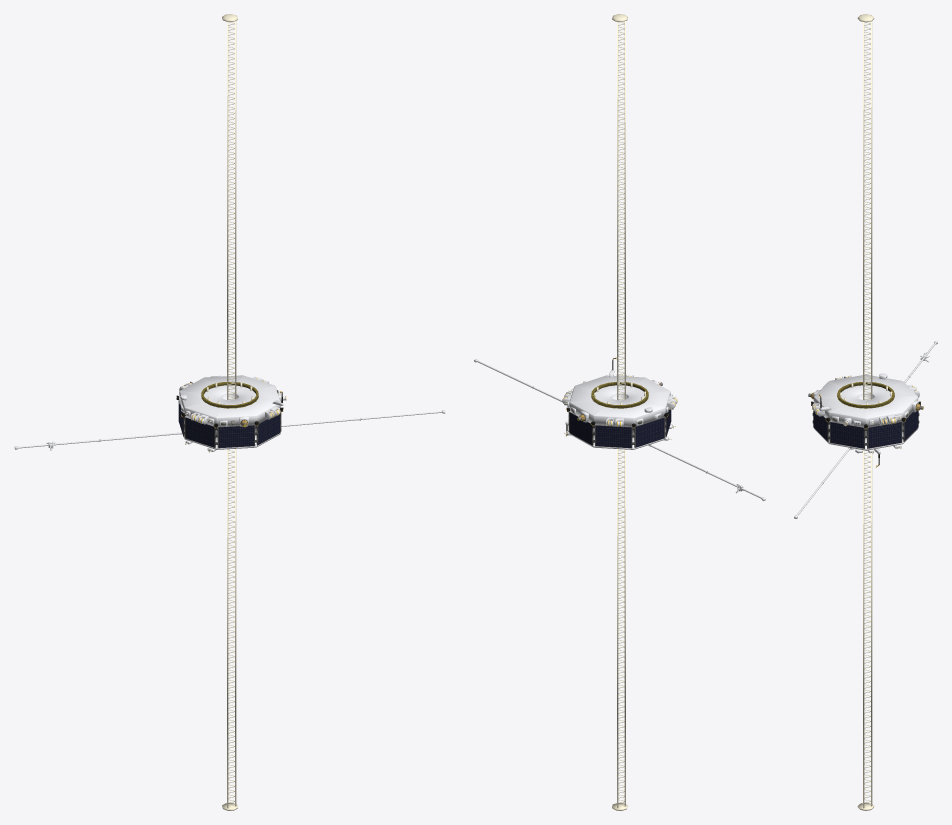
File: MMS.glb
3 views of the same model, side by side, from view 1: azimuth 30°, elevation 25°; view 2: azimuth 150°, elevation 25°; view 3: azimuth 270°, elevation 25° (orthographic).
Parts seen in each view (by area): view 1: BUS, ADP_top, ADP_bottom, Solar_array; view 2: BUS, ADP_top, ADP_bottom, Solar_array; view 3: BUS, ADP_top, ADP_bottom, Solar_array, Thrust_tube_gold.
Part boxes in pixels (x1,y1,x2,y2): BUS: [179, 375, 283, 451]; ADP_top: [222, 14, 237, 399]; ADP_bottom: [222, 449, 237, 810]; Solar_array: [178, 400, 281, 448]; BUS: [563, 370, 676, 449]; ADP_top: [612, 14, 627, 400]; ADP_bottom: [612, 449, 627, 810]; Solar_array: [568, 409, 671, 448]; BUS: [812, 374, 919, 454]; ADP_top: [857, 14, 874, 399]; ADP_bottom: [857, 450, 874, 810]; Solar_array: [812, 410, 919, 448]; Thrust_tube_gold: [837, 382, 894, 408].
Size of the model in its own units: 12.49 by 26.25 by 4.31.
Materials: 8 (2 with a texture image).
